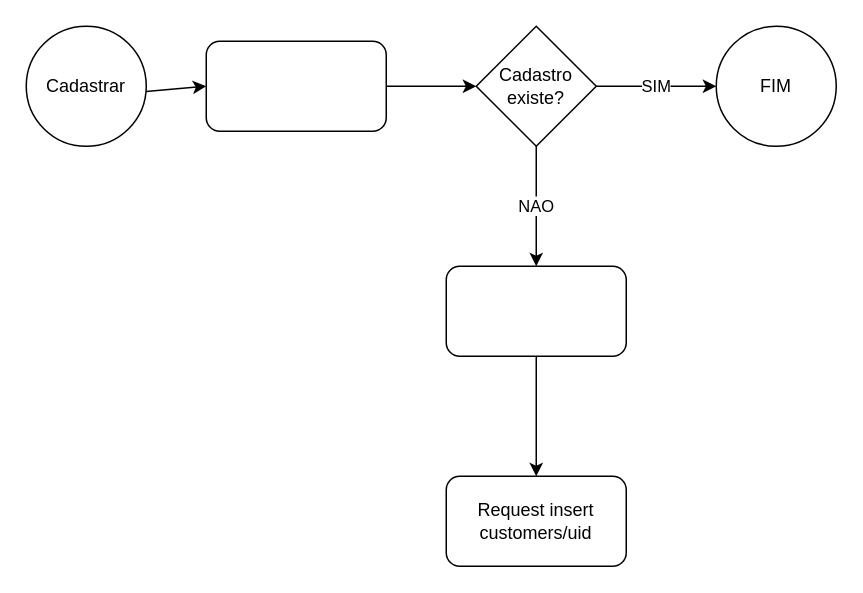
Some shapes in this 863 by 593 pixel diagram are drawn without their labels. The centre of each missing label's shape, as x and y in pixels:
Recebe token: the point at 535,310
Request cadastrar (email, senha): the point at 295,85
